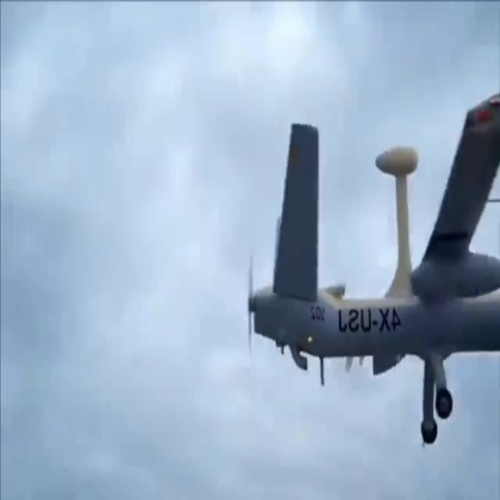uav: (240, 94, 498, 448)
